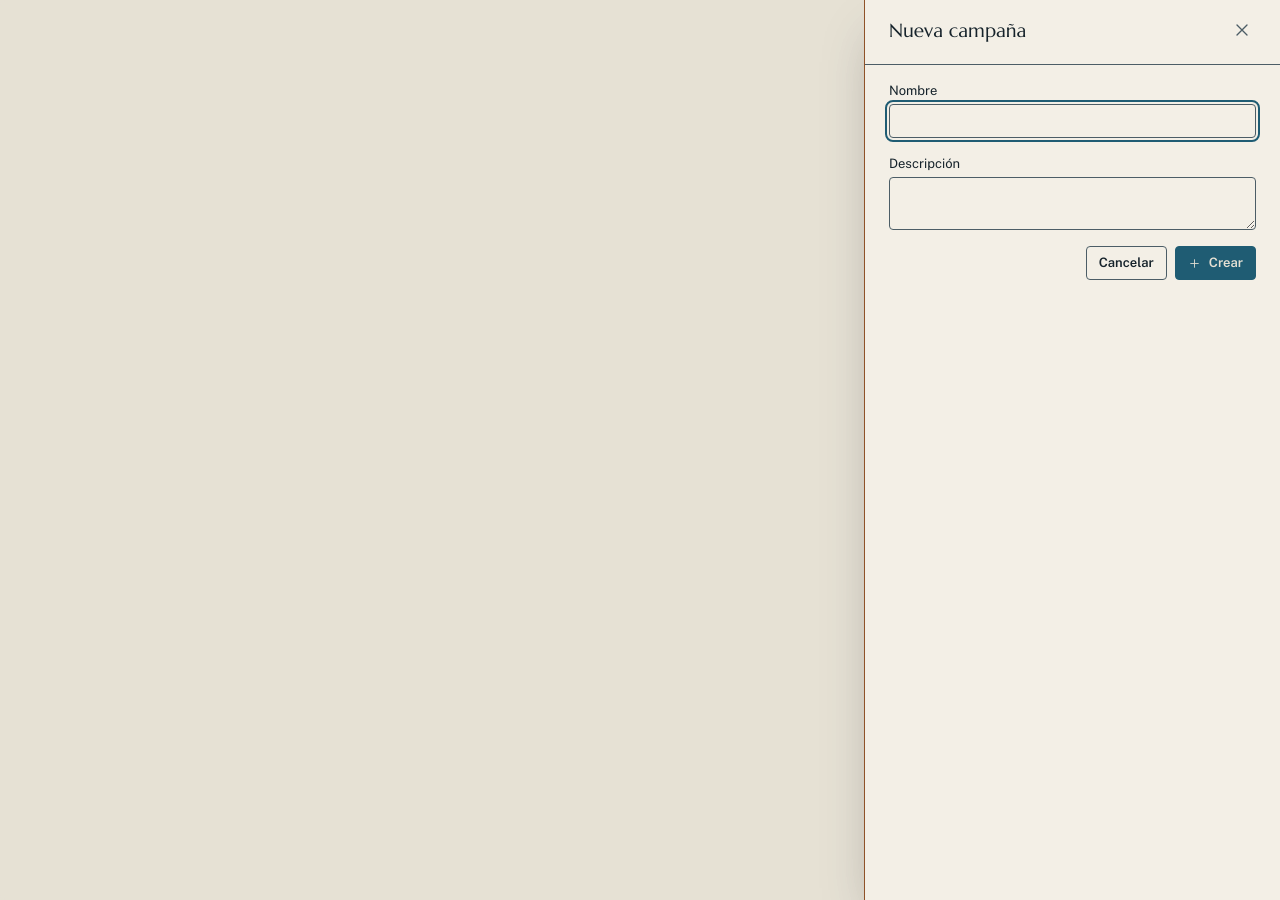
Scenario: CreateCampaignModal › shows the mutation's error message when creating the campaign fails
Type "Curse of Strahd" into the field labelled "Nombre".
click(1072, 121); type("Curse of Strahd")  # box [889,104,1256,138]
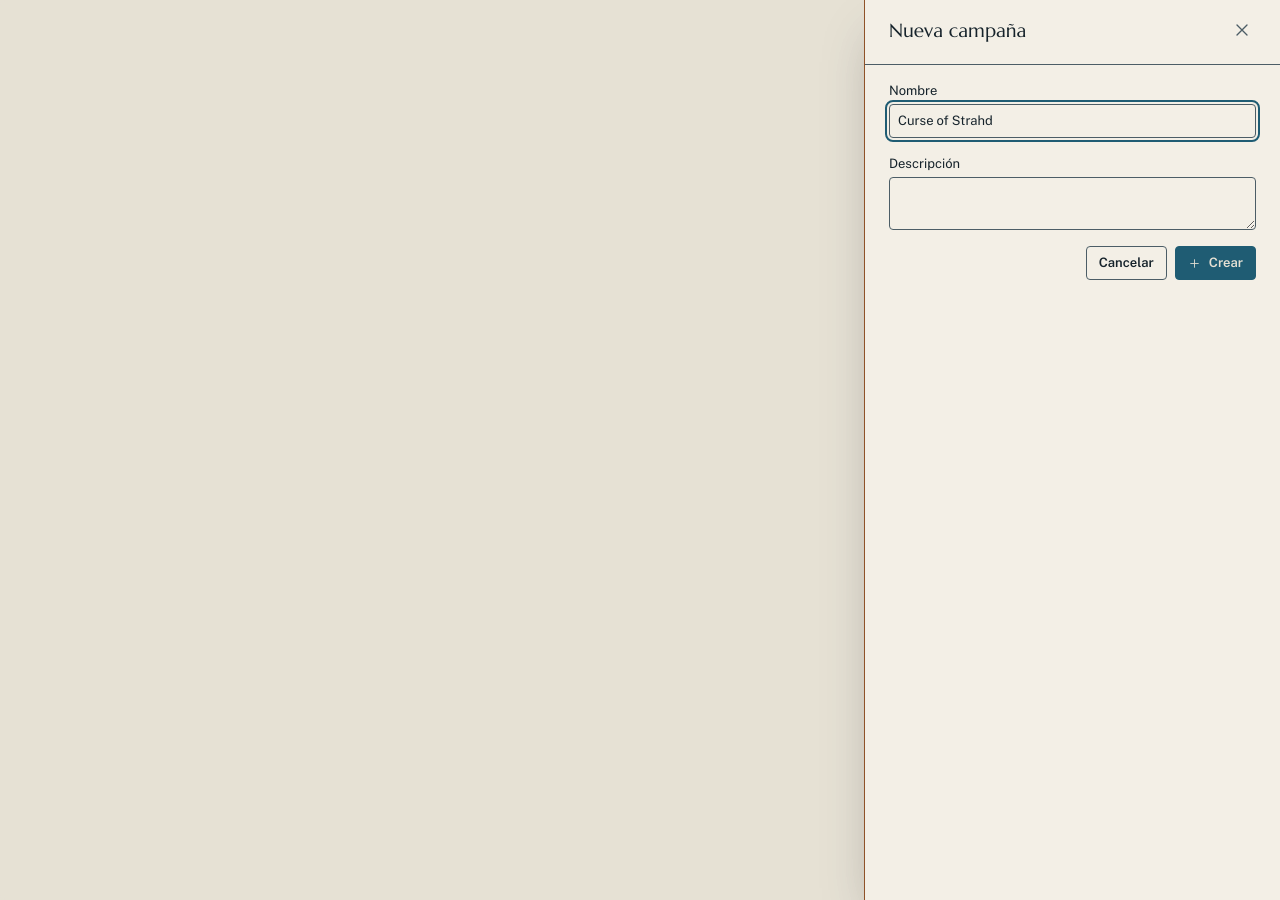
Click the button "Crear".
click(1215, 263)  # box [1175,246,1256,280]
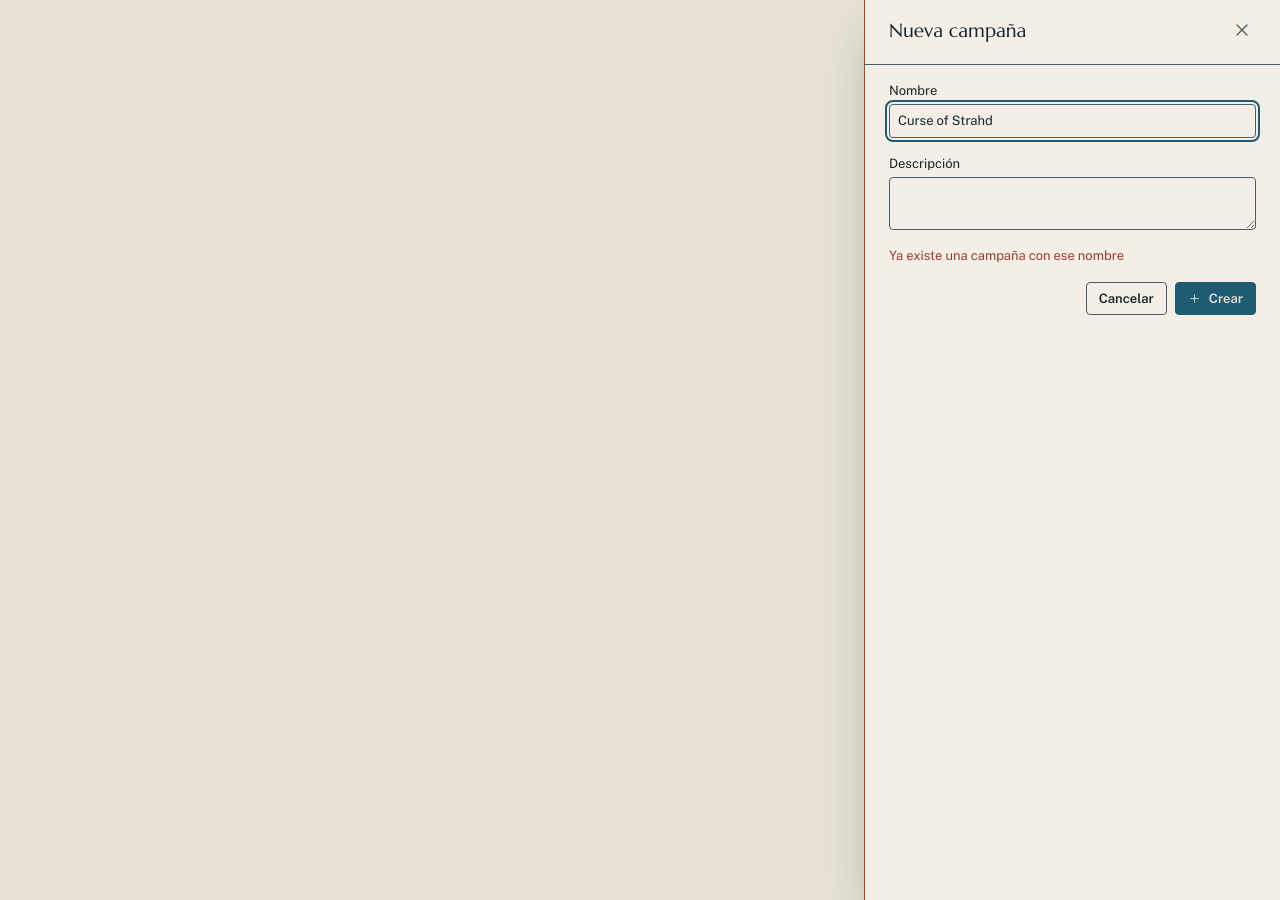
Result: the text "Ya existe una campaña con ese nombre" is shown at [889,248,1124,263]
